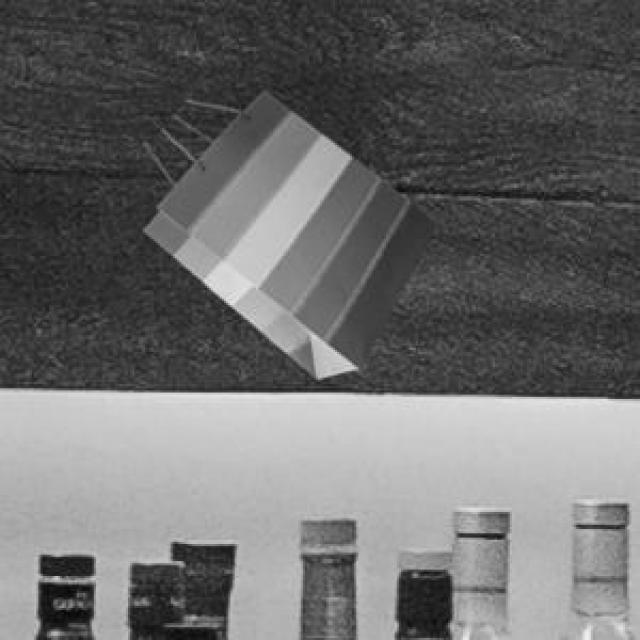paper: (141, 88, 433, 373)
